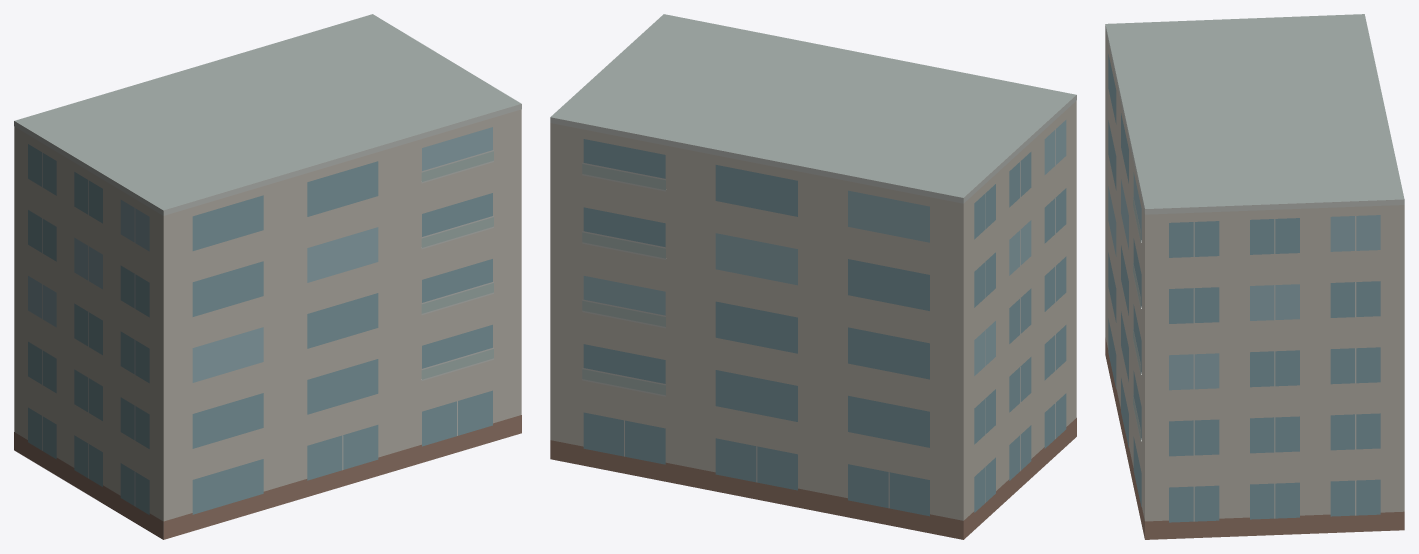
Rendered from survey-upis-33045106.glb.
The picture shows the model from 3 angles, left to right: view 1: azimuth 30°, elevation 25°; view 2: azimuth 150°, elevation 25°; view 3: azimuth 270°, elevation 25°; orthographic projection. The views are drawn at different scales.
Parts seen in each view (by area): view 1: survey-upis-33045106.tmp; view 2: survey-upis-33045106.tmp; view 3: survey-upis-33045106.tmp.
Boxes of the visible parts, x1=… form: survey-upis-33045106.tmp: x1=14, y1=14, x2=521, y2=539; survey-upis-33045106.tmp: x1=550, y1=14, x2=1076, y2=539; survey-upis-33045106.tmp: x1=1105, y1=14, x2=1404, y2=539.
Bounding box in the file's own units: 18.48 × 14.6 × 11.98.
